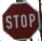Stop sign: (0, 0, 41, 40)
